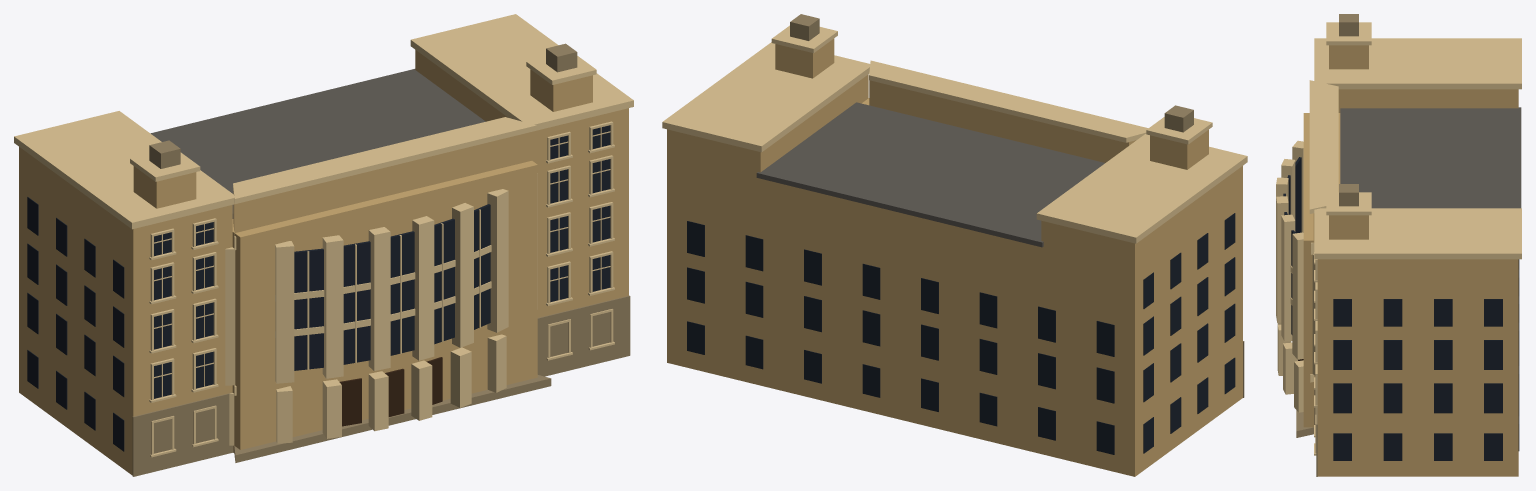
The picture shows the model from 3 angles, left to right: view 1: azimuth 30°, elevation 25°; view 2: azimuth 150°, elevation 25°; view 3: azimuth 270°, elevation 25°; orthographic projection. The views are drawn at different scales.
Visible parts, largest first — view 1: uk; view 2: uk; view 3: uk.
Boxes of the visible parts, x1,y1,x2,y2 form: uk: [14, 14, 633, 476]; uk: [662, 14, 1247, 476]; uk: [1276, 14, 1521, 476].
Bounding box in the file's own units: 40.5 × 23.45 × 19.54.
